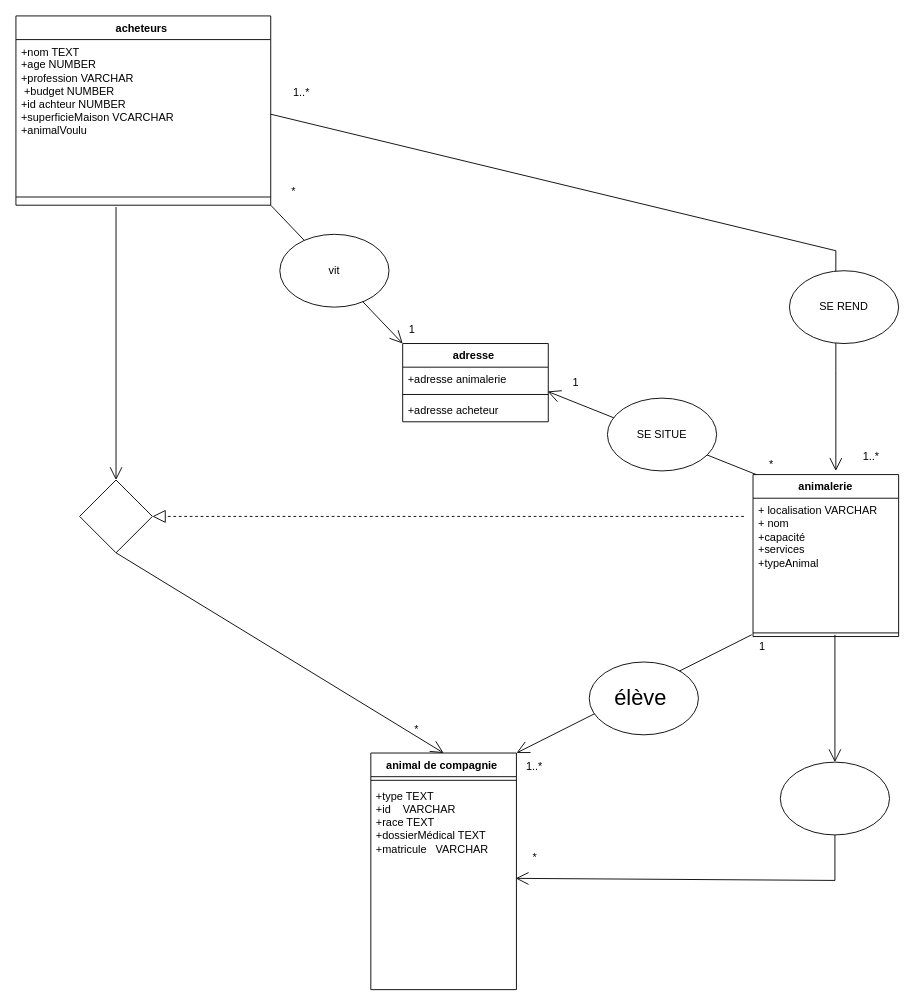
This 915x1008 diagram has some shape labels left out. Each missing label, with the centre of its shape:
"ACHETER LANIMAL" goes at point (115, 516).
"VENDS" goes at point (834, 798).
